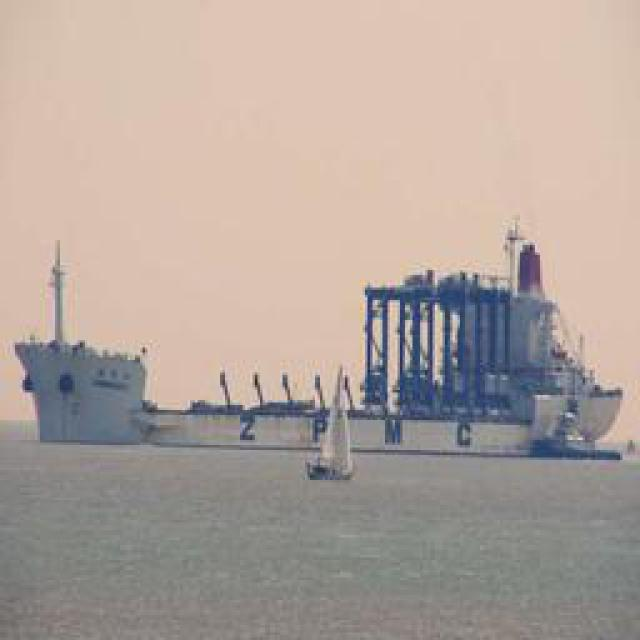Ship: (13, 240, 628, 464), (301, 343, 360, 493)
